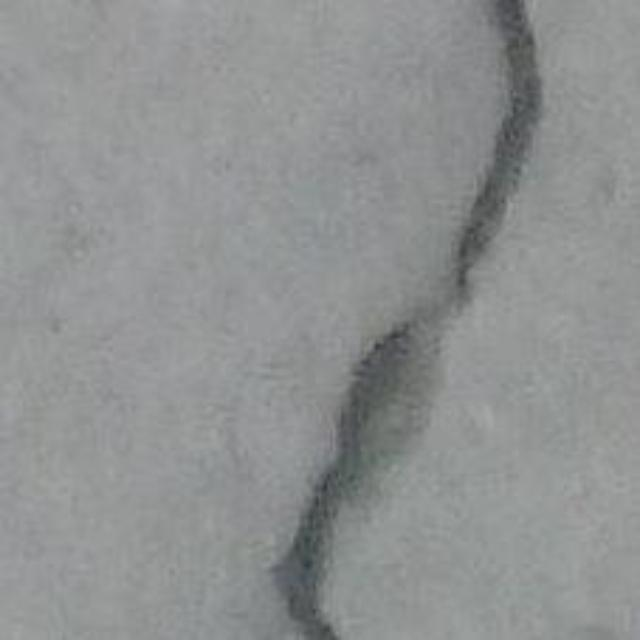crack: (277, 0, 541, 639)
